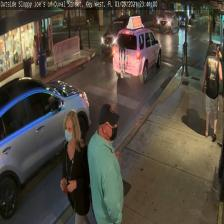person: (87, 103, 123, 224), (60, 110, 89, 224)
